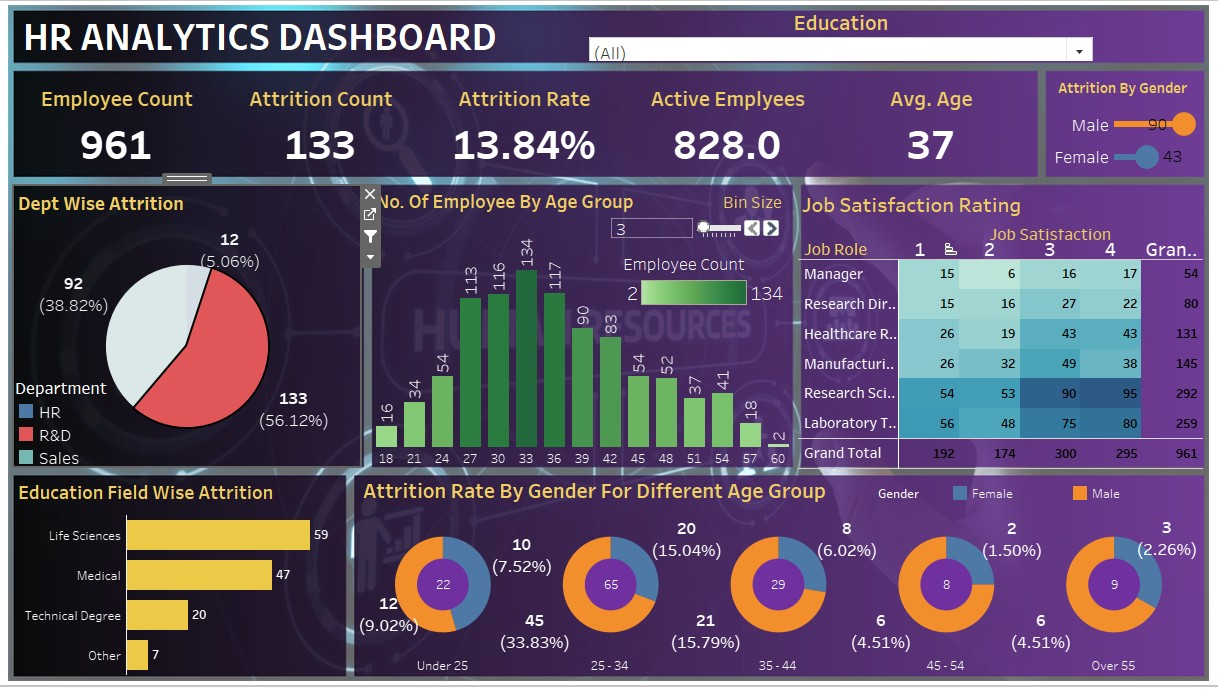

This screenshot's page, from the dashboard's own definition file:
{"tool":"tableau","page":{"name":"HR Analytics Dashboard","canvas":[1280,700],"ordinal":0},"visuals":[{"type":"image","param":"Image/HR background final.png","box":[8,8,1264,684]},{"type":"filter","title":"Dept Wise Attrition","param":"[federated.0ip1zpd0ai3lzq1g1te4b1hxfe0w].[none:Education:nk]","box":[617,15,510,53]},{"type":"text","box":[50,22,490,41]},{"type":"worksheet","title":"KPI","mark":"Automatic","box":[46,79,1019,102]},{"type":"worksheet","title":"Attrition By Gender","mark":"Automatic","rows":["Gender"],"cols":["Calculation_170010950689271808","Calculation_170010950689271808"],"box":[1077,81,153,99]},{"type":"worksheet","title":"No. Of Employee By Age Group","mark":"Automatic","rows":["Employee Count"],"cols":["Age (bin)"],"box":[403,191,420,284]},{"type":"worksheet","title":"Dept Wise Attrition","mark":"Pie","box":[45,193,346,280]},{"type":"worksheet","title":"Job Satisfaction Rating","mark":"Square","rows":["Job Role"],"cols":["Job Satisfaction"],"box":[829,193,405,283]},{"type":"parameter","param":"[Parameters].[Parameter 1]","box":[639,198,174,54]},{"type":"legend","title":"No. Of Employee By Age Group","param":"[federated.0ip1zpd0ai3lzq1g1te4b1hxfe0w].[sum:Employee Count:qk]","box":[654,259,165,53]},{"type":"legend","title":"Dept Wise Attrition","param":"[federated.0ip1zpd0ai3lzq1g1te4b1hxfe0w].[none:Department:nk]","box":[46,384,103,109]},{"type":"worksheet","title":"Attrition Rate By Gender For Different Age Group","mark":"Pie","rows":["Calculation_170010950747795461","Calculation_170010950747795461"],"cols":["CF_age band"],"box":[390,479,840,203]},{"type":"worksheet","title":"Education Field Wise Attrition","mark":"Automatic","rows":["Education Field"],"cols":["Calculation_170010950689271808"],"box":[45,482,330,200]},{"type":"legend","title":"Attrition Rate By Gender For Different Age Group","param":"[federated.0ip1zpd0ai3lzq1g1te4b1hxfe0w].[none:Gender:nk]","box":[909,490,318,34]}]}

Visuals, with their boxes on the page's 1280x700 design canvas (x1, y1, x2, y2). These are canvas units, not pixel positions in the 1218x690 screenshot, which may show the page scaled, cropped or inside an application window:
image: BBox(8, 8, 1272, 692)
"Dept Wise Attrition" filter: BBox(617, 15, 1127, 68)
text: BBox(50, 22, 540, 63)
"KPI" worksheet: BBox(46, 79, 1065, 181)
"Attrition By Gender" worksheet: BBox(1077, 81, 1230, 180)
"No. Of Employee By Age Group" worksheet: BBox(403, 191, 823, 475)
"Dept Wise Attrition" worksheet (Pie marks): BBox(45, 193, 391, 473)
"Job Satisfaction Rating" worksheet (Square marks): BBox(829, 193, 1234, 476)
parameter: BBox(639, 198, 813, 252)
"No. Of Employee By Age Group" legend: BBox(654, 259, 819, 312)
"Dept Wise Attrition" legend: BBox(46, 384, 149, 493)
"Attrition Rate By Gender For Different Age Group" worksheet (Pie marks): BBox(390, 479, 1230, 682)
"Education Field Wise Attrition" worksheet: BBox(45, 482, 375, 682)
"Attrition Rate By Gender For Different Age Group" legend: BBox(909, 490, 1227, 524)
